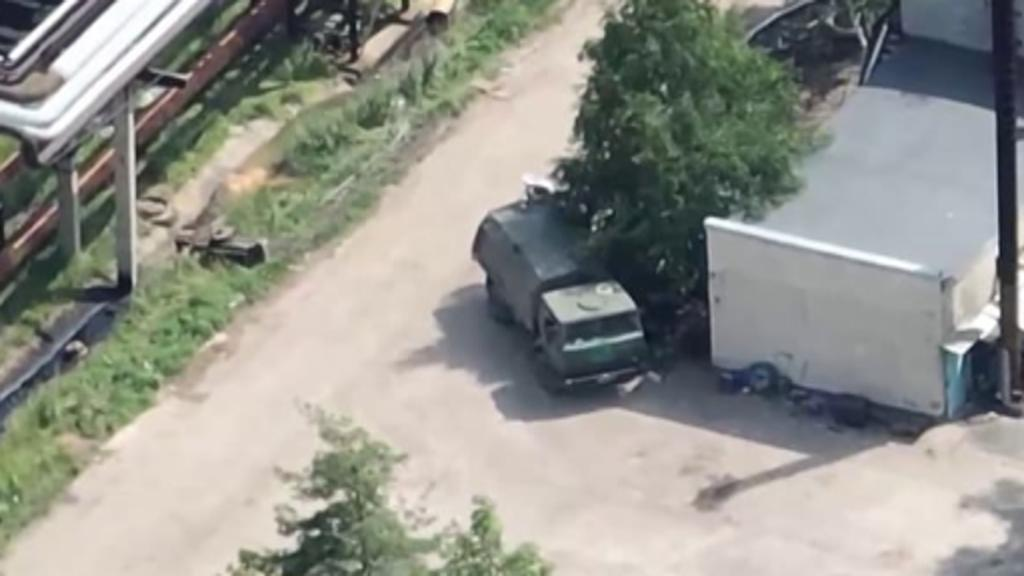TRUCK: (470, 197, 646, 394)
